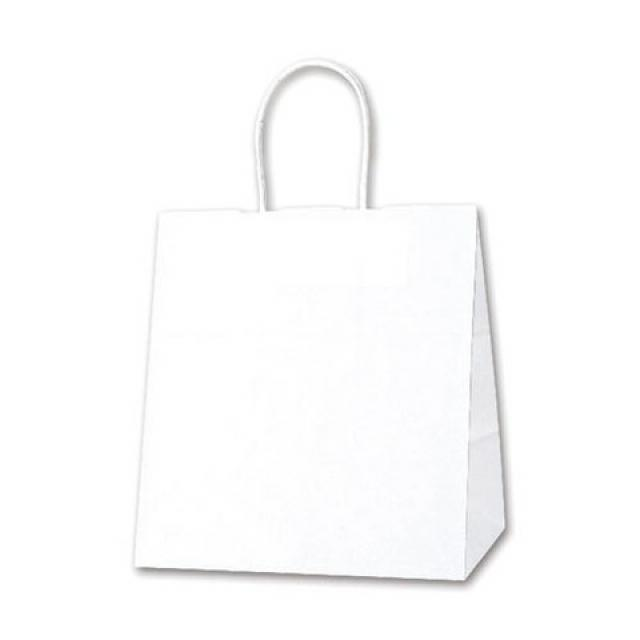paper bag: (130, 54, 510, 590)
